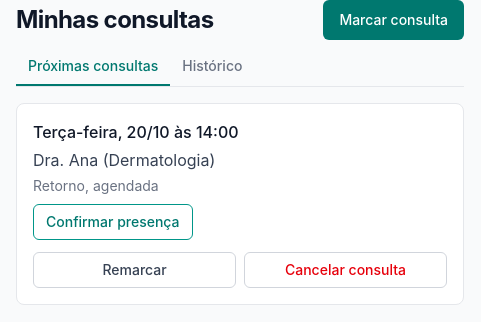
Test case: MinhasConsultas › lista consultas e permite cancelamento com atualização reativa
Expected: the text "Dra. Ana (Dermatologia)" is shown, [33, 150, 215, 170]
Note: Clicar em Cancelar consulta
Click the button "Cancelar consulta" at (346, 270), box [244, 252, 447, 288]
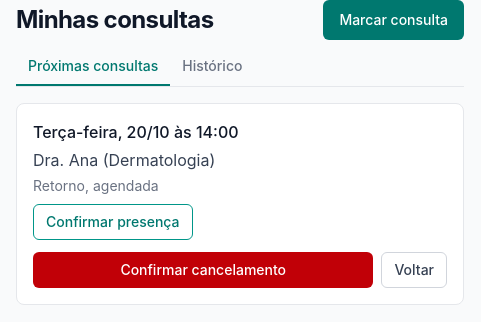
Now the button "Confirmar cancelamento" is shown
Click the button "Confirmar cancelamento" at (203, 270), box [33, 252, 373, 288]
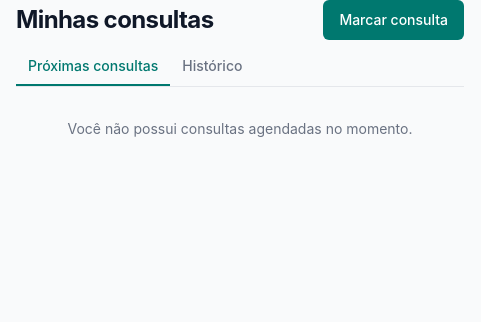
Now the text "Você não possui consultas agendadas no momento." is shown, box [68, 120, 412, 137]
